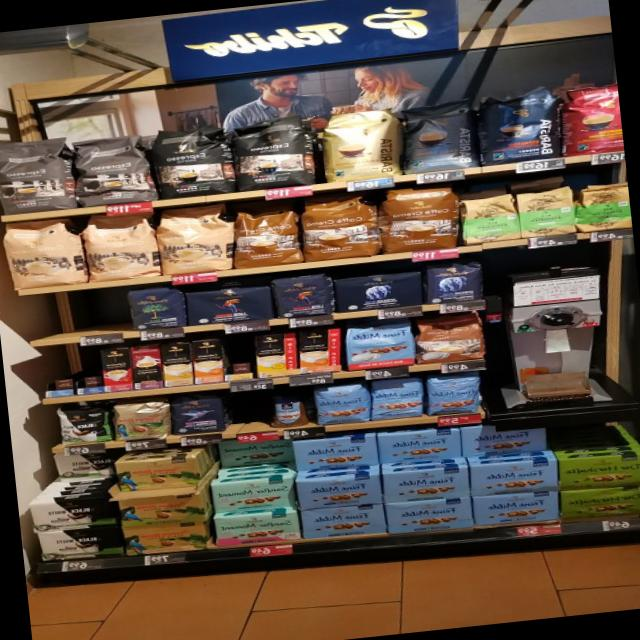AB Bohne: (421, 258, 486, 304)
AB Gemahlen: (328, 269, 426, 314)
Athiopien Bohne: (573, 181, 632, 232)
Athiopien Gemahlen: (456, 192, 522, 248), (516, 184, 578, 238)
BM Bohne: (126, 283, 186, 332)
BW Bohne: (54, 401, 112, 447)
BW Gemahlen: (27, 494, 118, 534), (38, 522, 124, 562)
Barista CB: (312, 105, 406, 184)
Barista CC: (392, 93, 484, 176)
Barista Espresso: (471, 82, 568, 166)
C Fino Bohne: (166, 396, 228, 437)
CC Mild: (154, 200, 241, 276), (0, 214, 85, 291), (79, 210, 162, 284)
CC Vollmundig: (409, 310, 486, 366)
CC Vollmundig 36 Pads: (373, 182, 463, 256), (296, 192, 382, 264), (225, 204, 305, 270)
Colombia BB Bohne: (109, 398, 172, 442)
Colombia BB Gemahlen: (122, 518, 213, 557), (118, 489, 209, 527), (114, 453, 200, 493)
Empty Shelf: (51, 294, 129, 336), (43, 349, 102, 396), (220, 335, 258, 380)
Espresso Aromatisch: (67, 130, 156, 208), (0, 132, 77, 213)
Espresso Kraftig: (145, 120, 233, 202), (230, 112, 317, 193)
FM 36 Pads: (340, 318, 418, 374)
FM Bohne: (421, 369, 484, 416), (365, 376, 425, 422), (310, 382, 370, 428)
FM Gemahlen: (466, 456, 564, 498), (381, 494, 476, 536), (381, 464, 472, 504), (292, 432, 379, 472), (468, 489, 562, 526), (294, 474, 384, 512), (374, 428, 464, 466), (461, 419, 547, 458), (297, 503, 386, 540)
FM Instant: (263, 388, 309, 429)
Herzhatfe Mundig: (556, 451, 640, 492), (559, 483, 640, 521)
LG Bohne: (270, 271, 336, 319)
LG Gemahlen: (184, 283, 276, 327)
SM Gemahlen: (210, 508, 302, 548), (210, 474, 296, 514)
Simo CCMild: (252, 332, 299, 378)
Simo CCVollmundig: (293, 326, 346, 374)
Simo CCVollmundig bigpack: (188, 337, 226, 384)
Simo Decaff: (158, 341, 194, 388)
Simo Es Elegant: (99, 346, 133, 392)
Simo Es Kraft: (129, 343, 165, 390)
